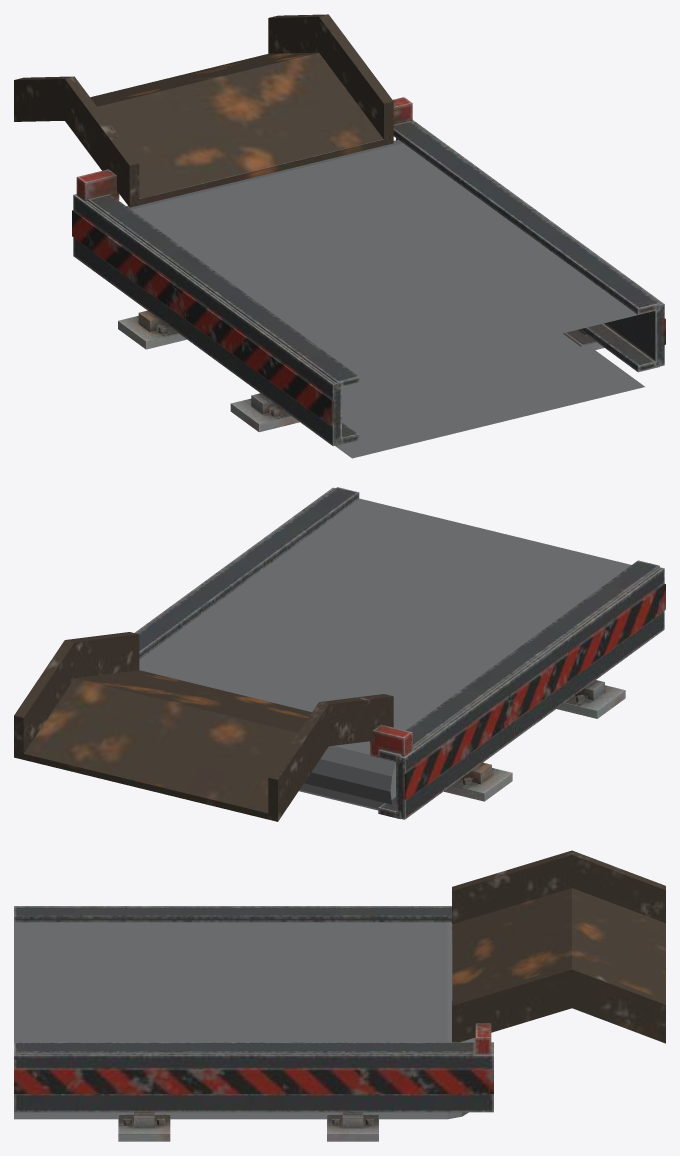
File: esteira_juncao_rapida.glb
3 renders of one model, top to bottom at view 1: azimuth 30°, elevation 25°; view 2: azimuth 150°, elevation 25°; view 3: azimuth 270°, elevation 25°, orthographic. The views are drawn at different scales.
Parts seen in each view (by area): view 1: esteira_juncao_rapida_corpo; view 2: esteira_juncao_rapida_corpo; view 3: esteira_juncao_rapida_corpo.
Boxes of the visible parts, left/top/right/bottom form: esteira_juncao_rapida_corpo: left=14, top=14, right=665, bottom=458; esteira_juncao_rapida_corpo: left=14, top=487, right=665, bottom=821; esteira_juncao_rapida_corpo: left=14, top=850, right=665, bottom=1141.
Bounding box in the file's own units: 0.75 × 0.315 × 1.25.
2 materials, 1 textured.
